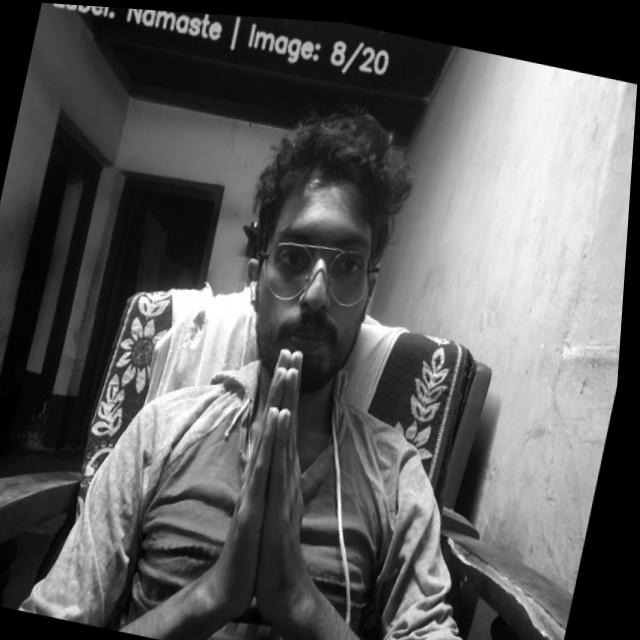Namaste: (214, 337, 349, 636)
